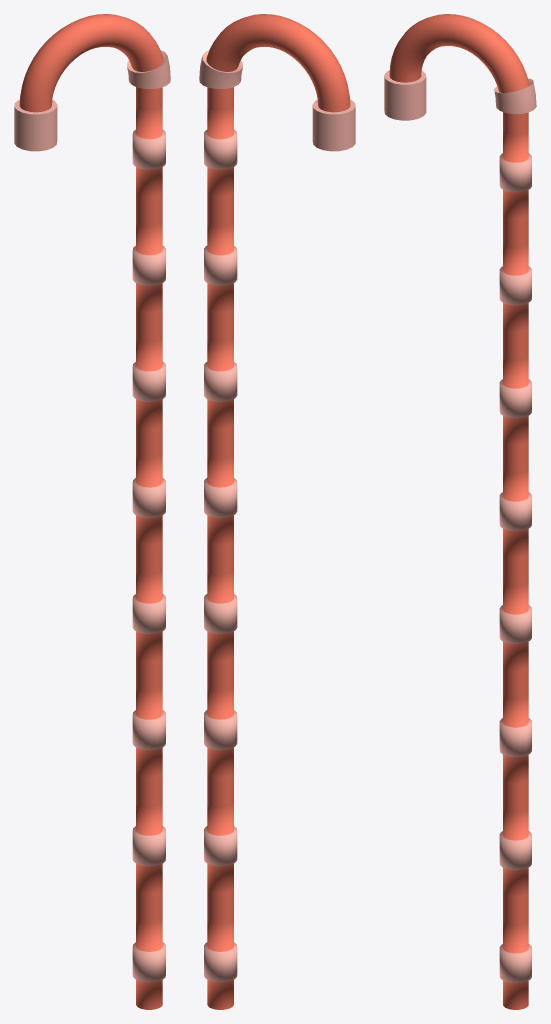
Rendered from Faucet_2.fbx.
The picture shows the model from 3 angles, left to right: view 1: azimuth 30°, elevation 25°; view 2: azimuth 150°, elevation 25°; view 3: azimuth 330°, elevation 25°; orthographic projection. The views are drawn at different scales.
Parts seen in each view (by area): view 1: Faucet, Torus; view 2: Faucet, Torus; view 3: Faucet, Torus.
Part boxes in pixels (x1,y1,x2,y2): Faucet: (132,87,165,1009); Torus: (14,14,170,151); Faucet: (204,87,237,1009); Torus: (199,14,355,151); Faucet: (499,112,531,1009); Torus: (384,14,536,120).
Bounding box in the file's own units: 34.05 × 216 × 8.47.
